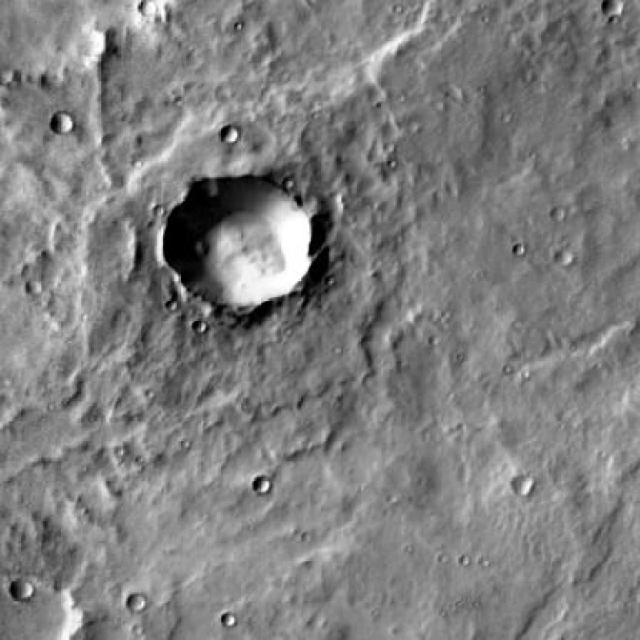crater: (178, 178, 324, 314), (0, 583, 92, 640), (62, 118, 84, 140), (617, 2, 640, 23), (24, 584, 47, 605), (232, 129, 253, 149), (529, 482, 549, 500), (542, 230, 561, 247), (149, 3, 168, 20), (134, 594, 151, 612), (261, 476, 279, 492)
